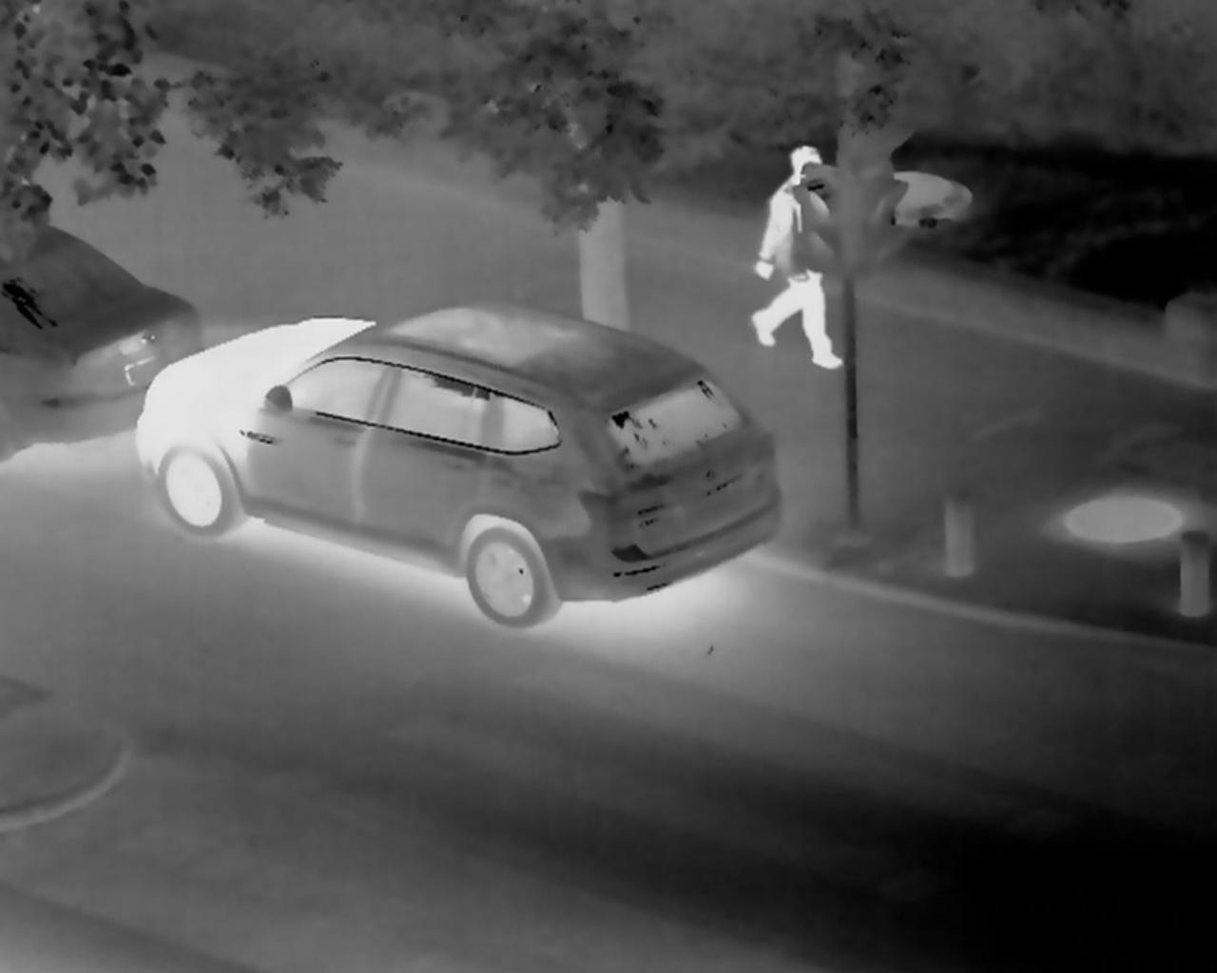person: (753, 138, 865, 372)
